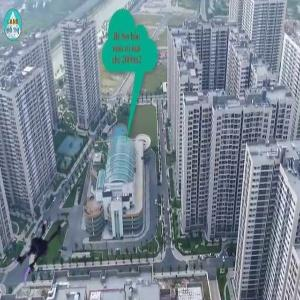drone: (7, 217, 83, 293)
